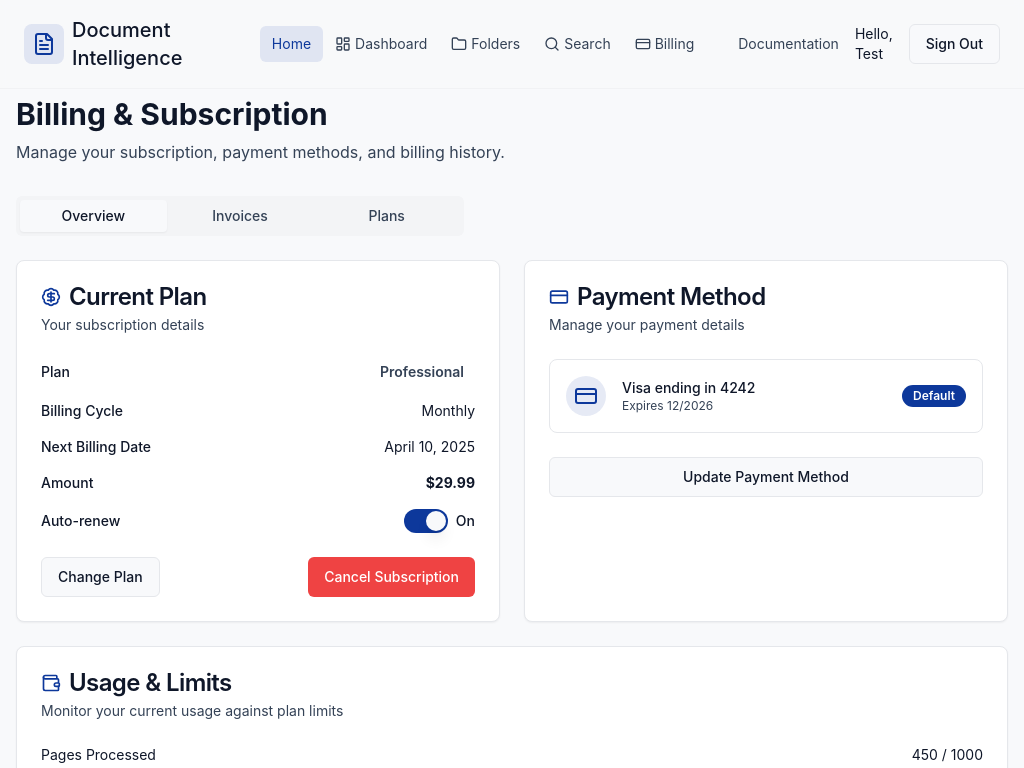
Billing Component › toggles auto-renew switch when clicked
The width and height of the screenshot is (1024, 768).
Expected: the text "Auto-renew" is shown, [41,511,120,531]
Click the switch at (426, 521), box [404,509,448,533]
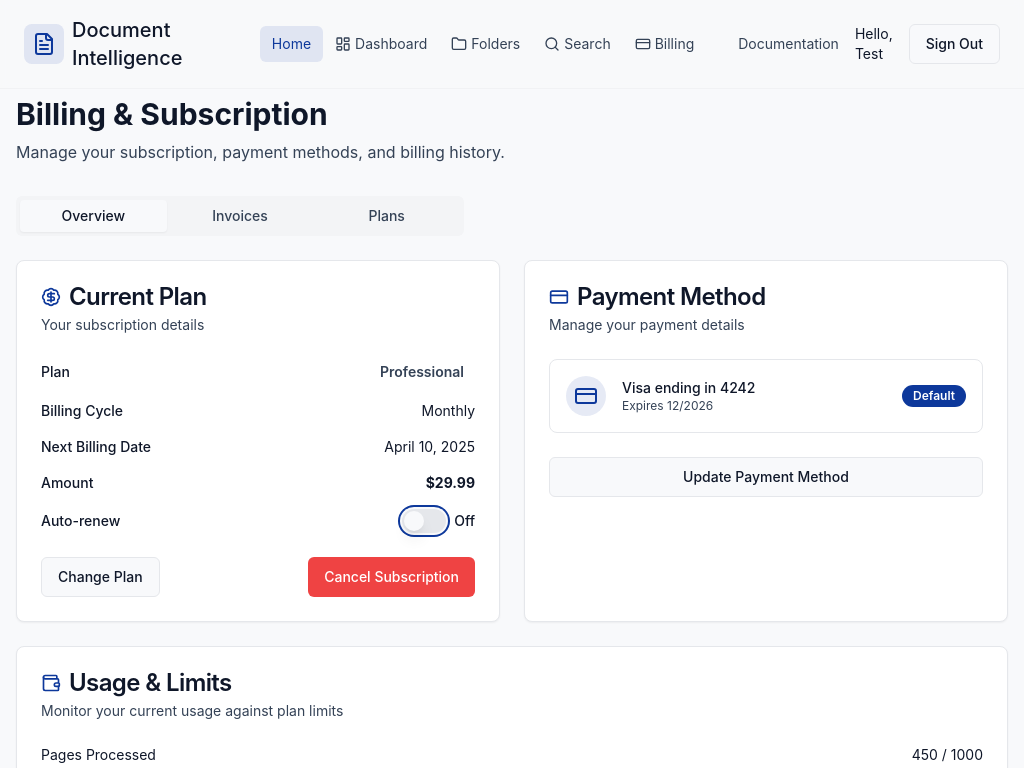
Expected: the text "Off" is shown, [454,511,475,531]
